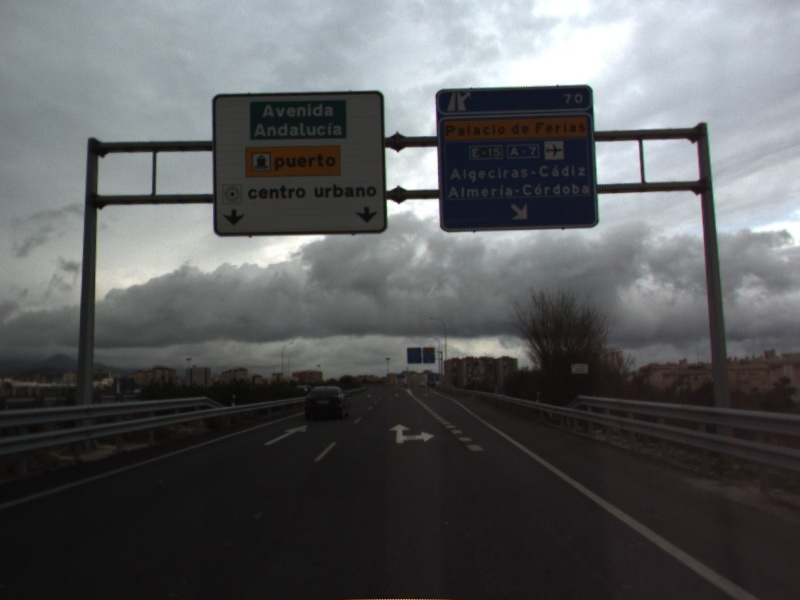STRAIGHT: (261, 423, 309, 448)
STRAIGHT_RIGHT: (387, 422, 437, 446)
